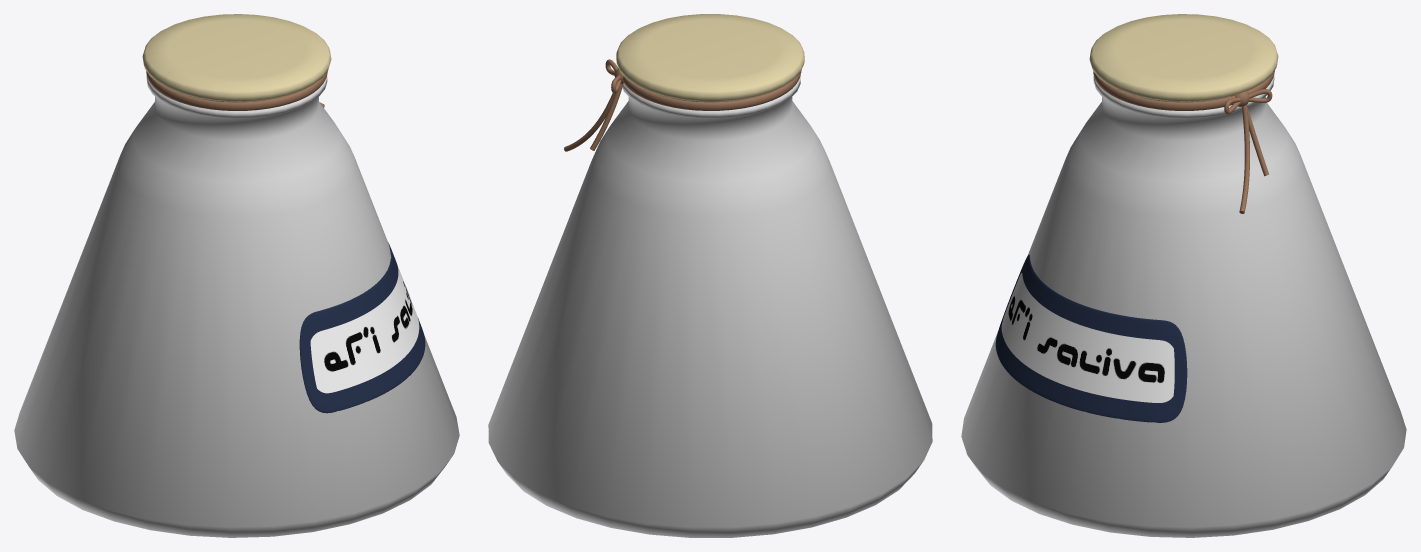
Rendered from oil.fbx.
3 renders of one model, left to right at view 1: azimuth 30°, elevation 25°; view 2: azimuth 150°, elevation 25°; view 3: azimuth 270°, elevation 25°, orthographic.
Visible parts, largest first — view 1: oil, Cylinder.008, label.007, rope.007; view 2: oil, Cylinder.008, rope.007; view 3: oil, label.007, Cylinder.008, rope.007.
Part boxes in pixels (left/top/right/bottom): oil: left=14, top=75, right=459, bottom=537; Cylinder.008: left=142, top=14, right=331, bottom=102; label.007: left=299, top=242, right=425, bottom=413; rope.007: left=146, top=71, right=327, bottom=110; oil: left=488, top=76, right=932, bottom=537; Cylinder.008: left=616, top=14, right=804, bottom=102; rope.007: left=564, top=59, right=801, bottom=151; oil: left=961, top=75, right=1406, bottom=537; label.007: left=995, top=254, right=1187, bottom=422; Cylinder.008: left=1089, top=14, right=1278, bottom=102; rope.007: left=1093, top=70, right=1274, bottom=213.
Size of the model in its own units: 83.9 by 83.75 by 83.9.
